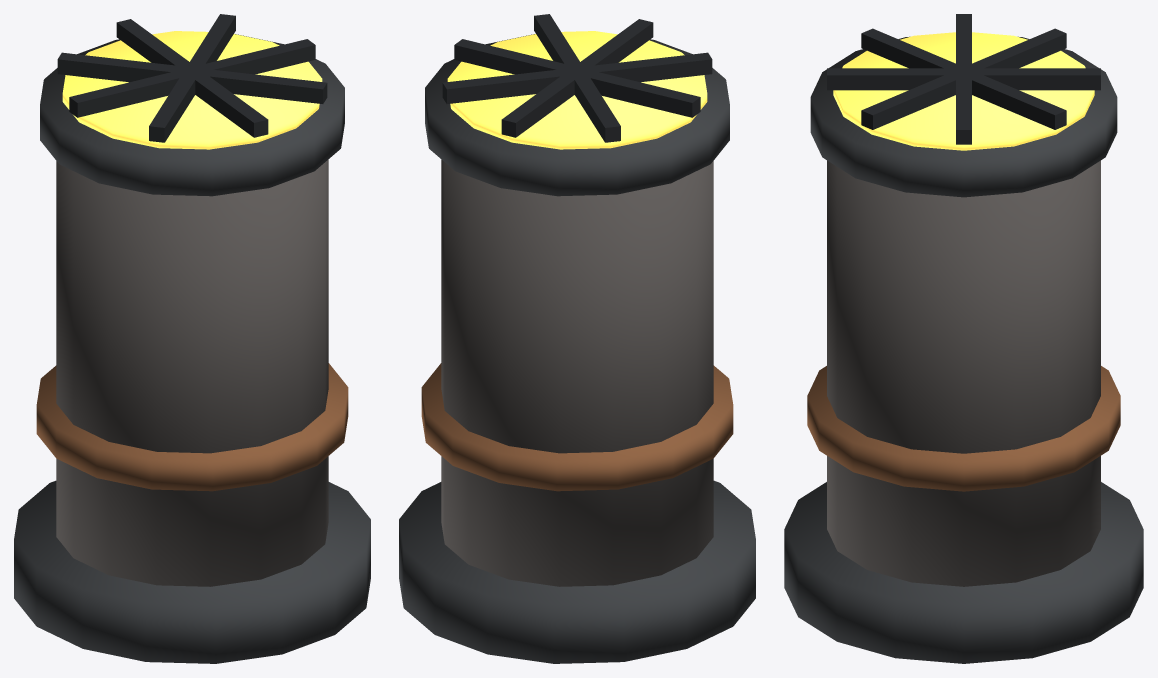
The model's file is smoke_stack.glb.
3 views of the same model, side by side, from view 1: azimuth 30°, elevation 25°; view 2: azimuth 150°, elevation 25°; view 3: azimuth 270°, elevation 25° (orthographic).
Parts seen in each view (by area): view 1: smoke_stack; view 2: smoke_stack; view 3: smoke_stack.
Boxes of the visible parts, bbox=[...] form: smoke_stack: bbox=[14, 14, 370, 663]; smoke_stack: bbox=[399, 14, 755, 663]; smoke_stack: bbox=[784, 14, 1143, 663].
Bounding box in the file's own units: 1.1 × 1.75 × 1.1.
